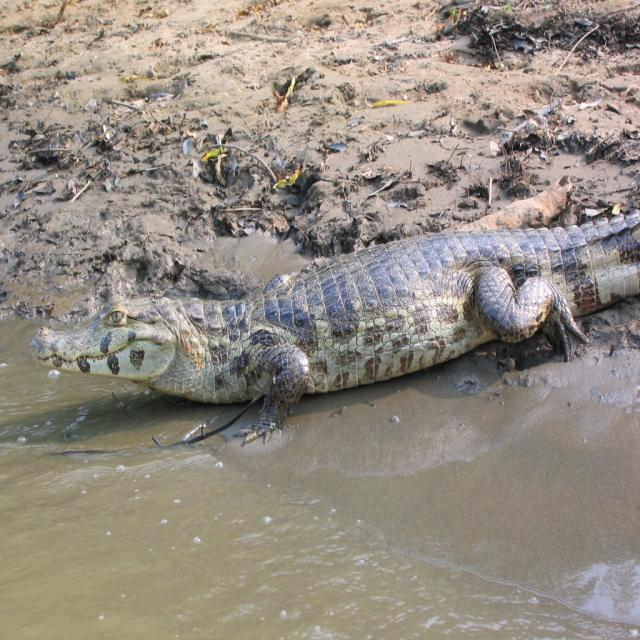crocodile: (24, 175, 639, 488)
